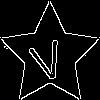V: (25, 30, 68, 84)
